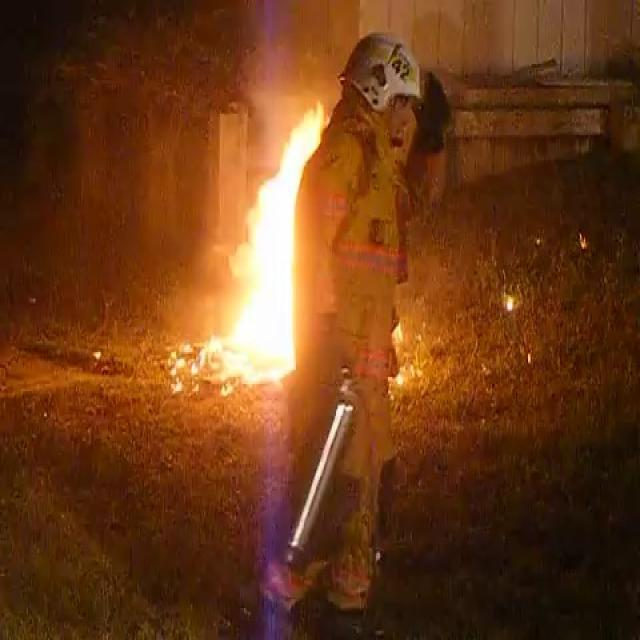Fire: (207, 96, 333, 391)
